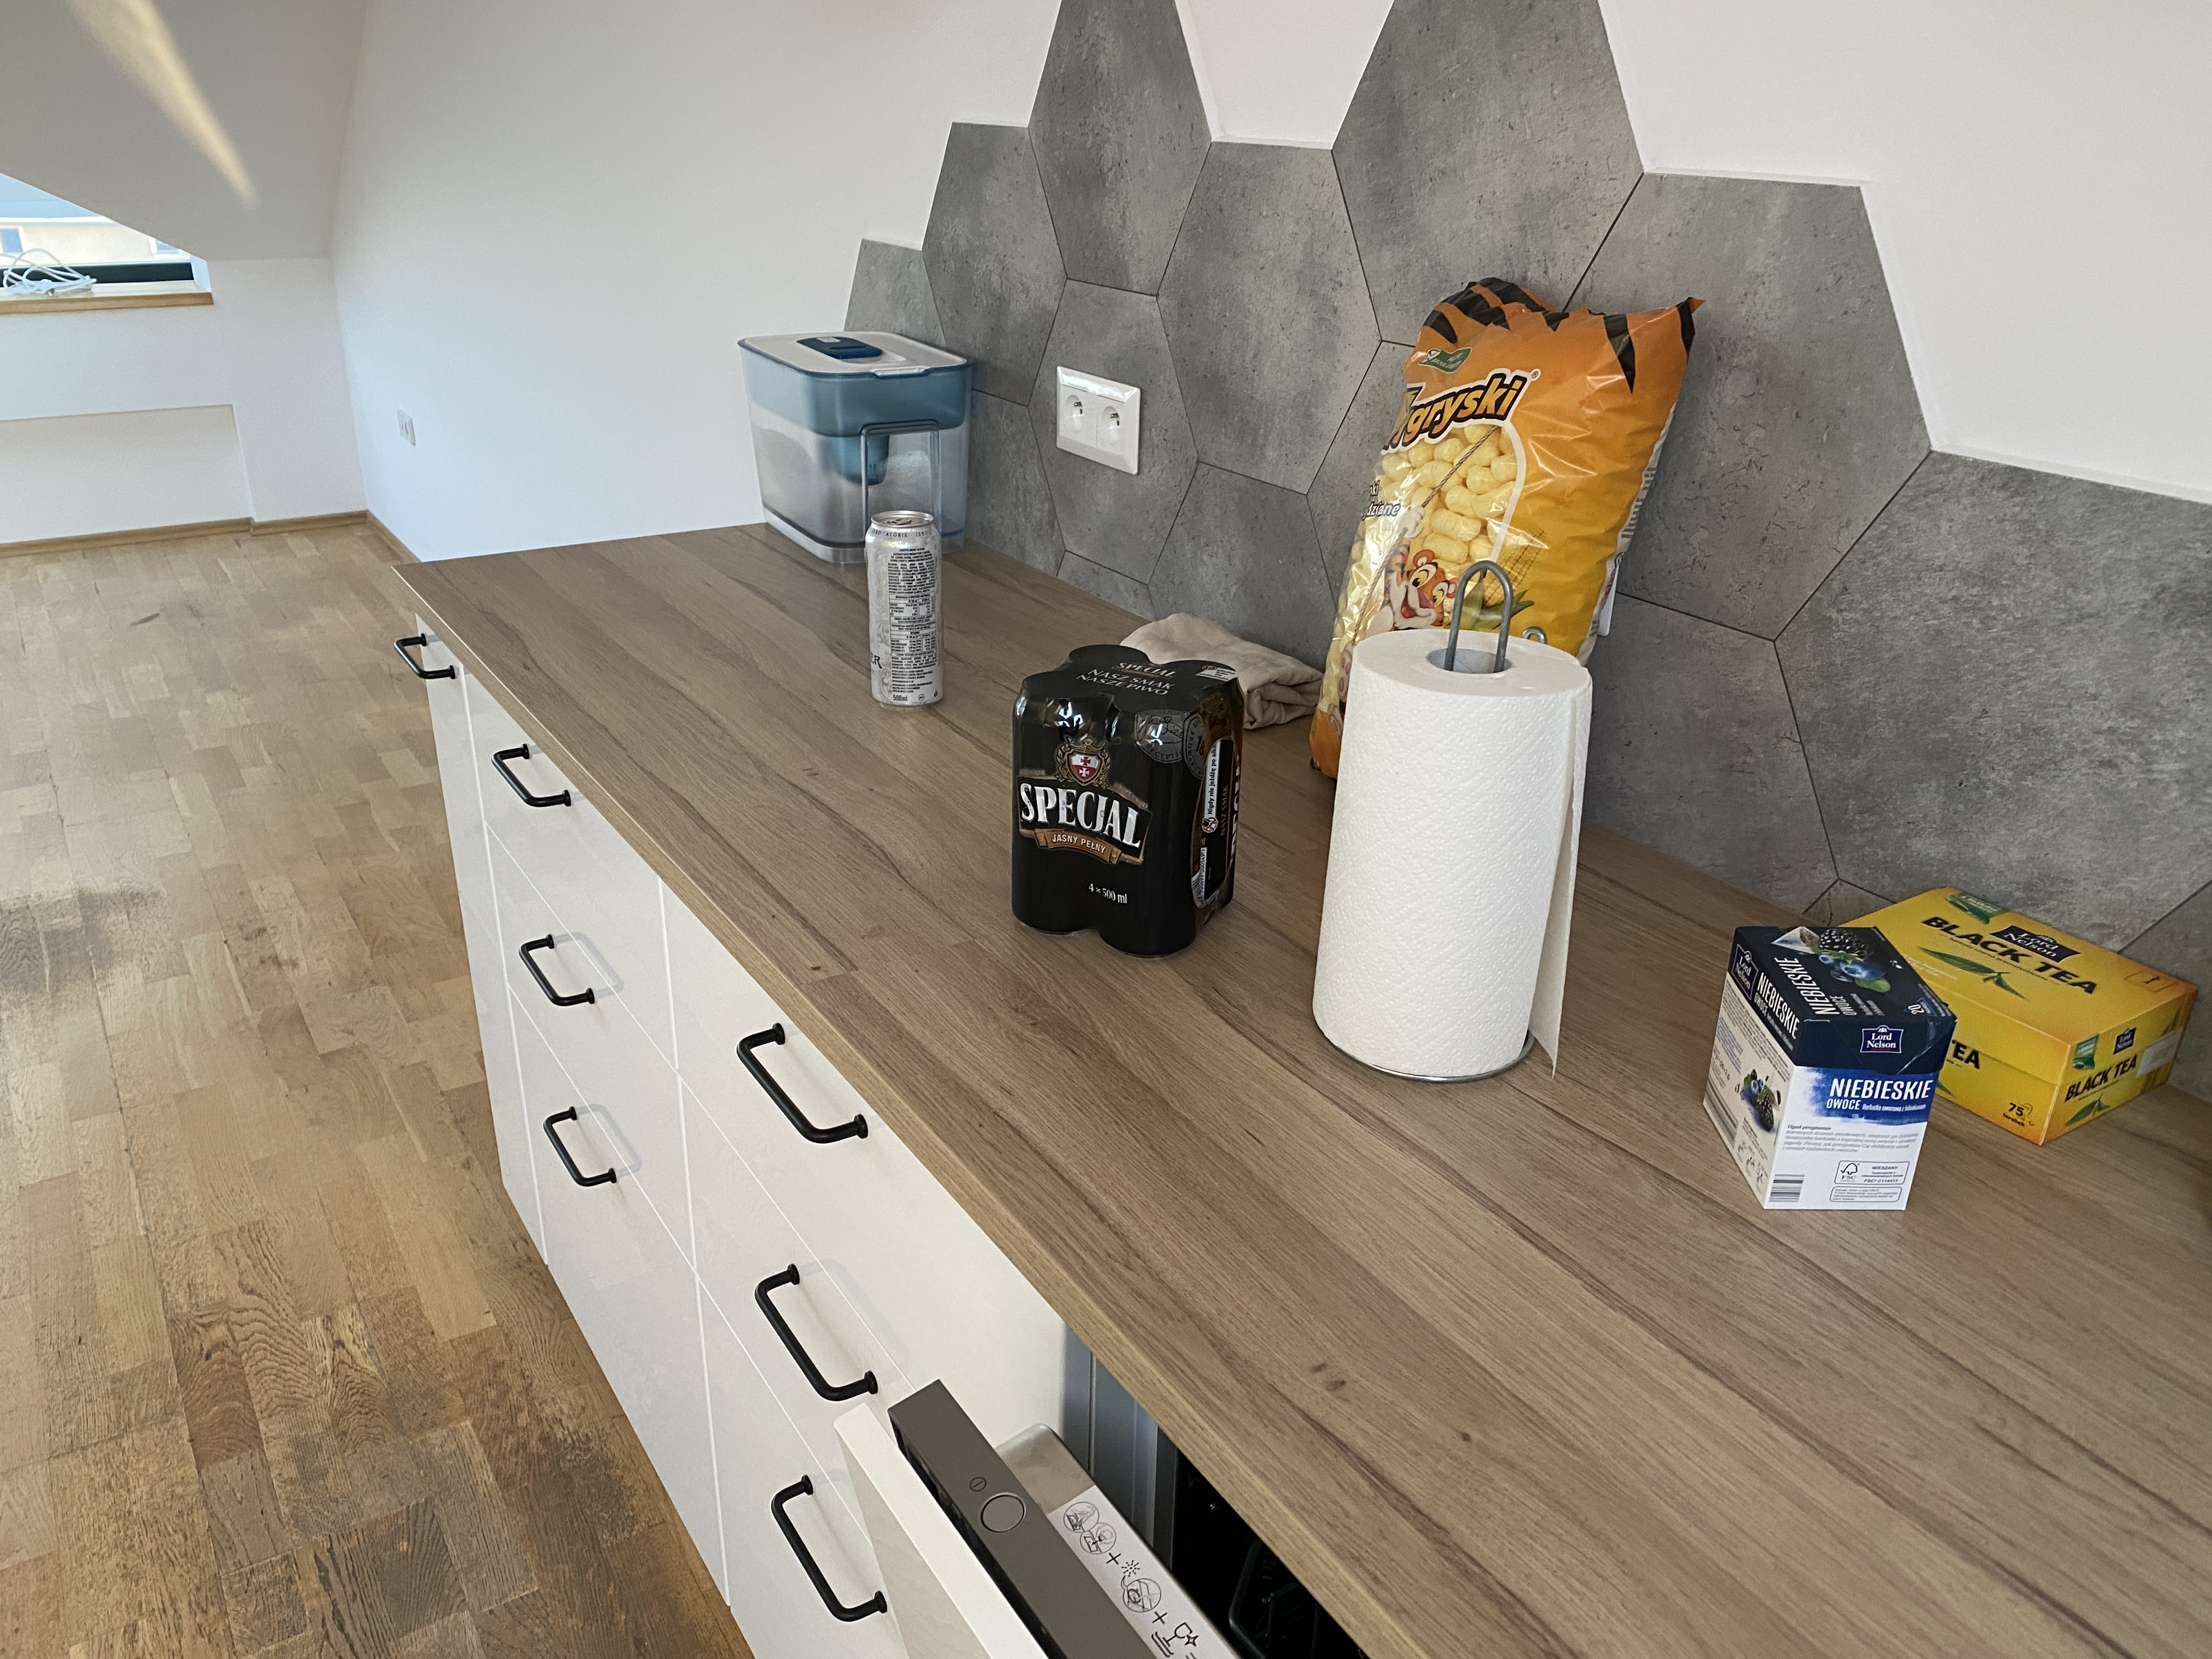specjal: (1012, 647, 1242, 957)
